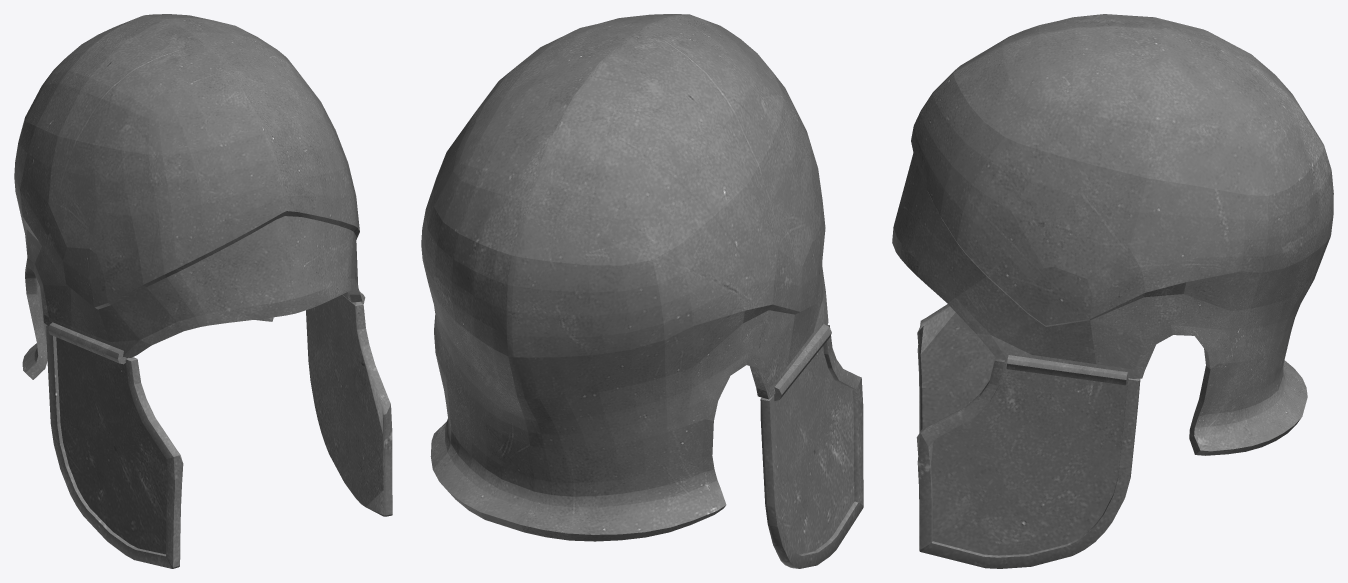
File: helmet.fbx
3 views of the same model, side by side, from view 1: azimuth 30°, elevation 25°; view 2: azimuth 150°, elevation 25°; view 3: azimuth 270°, elevation 25° (orthographic). The views are drawn at different scales.
Parts seen in each view (by area): view 1: _Attic_helmet_v2; view 2: _Attic_helmet_v2; view 3: _Attic_helmet_v2.
Boxes of the visible parts, box(x1,y1,x2,y2) form: _Attic_helmet_v2: box(14, 14, 392, 568); _Attic_helmet_v2: box(421, 14, 863, 568); _Attic_helmet_v2: box(892, 14, 1333, 568).
Size of the model in its own units: 17.74 by 27.75 by 23.07.
Materials: 1 (1 with a texture image).
